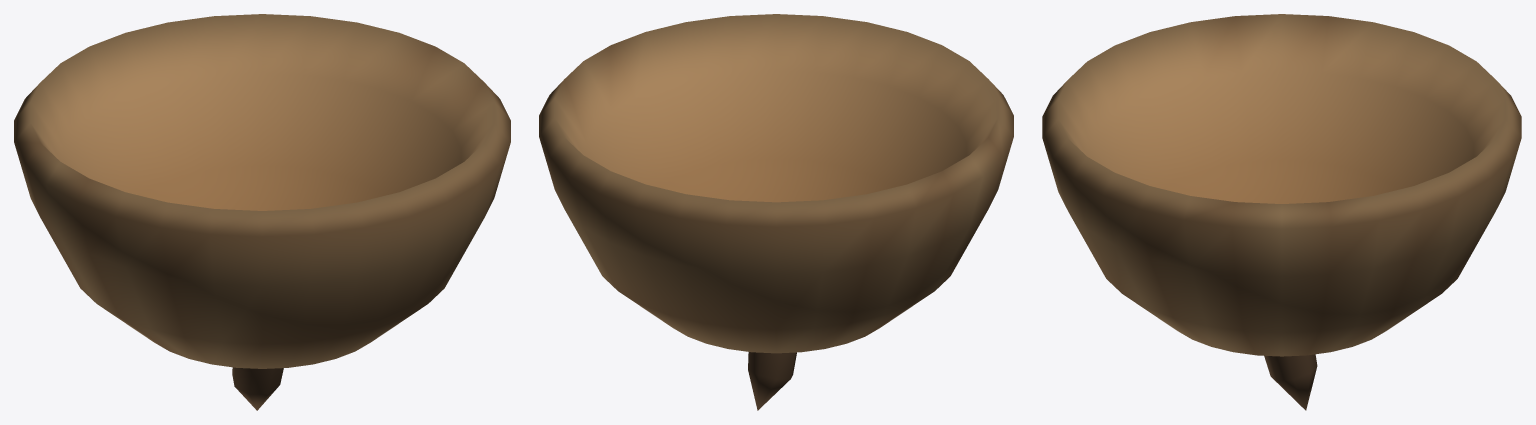
The model's file is AcornCap.fbx.
3 views of the same model, side by side, from view 1: azimuth 30°, elevation 25°; view 2: azimuth 150°, elevation 25°; view 3: azimuth 270°, elevation 25° (orthographic). The views are drawn at different scales.
Visible parts, largest first — view 1: AcornCap; view 2: AcornCap; view 3: AcornCap.
Boxes of the visible parts, x1=… form: AcornCap: x1=14, y1=14, x2=510, y2=410; AcornCap: x1=539, y1=14, x2=1013, y2=410; AcornCap: x1=1042, y1=14, x2=1521, y2=410.
Size of the model in its own units: 1.2 by 0.82 by 1.19.
